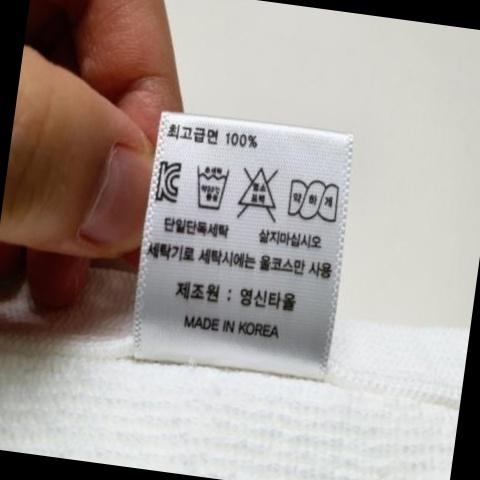hand_wash: (189, 162, 237, 216)
non_chlorine_bleach: (234, 160, 286, 226)
wring: (283, 176, 342, 226)
